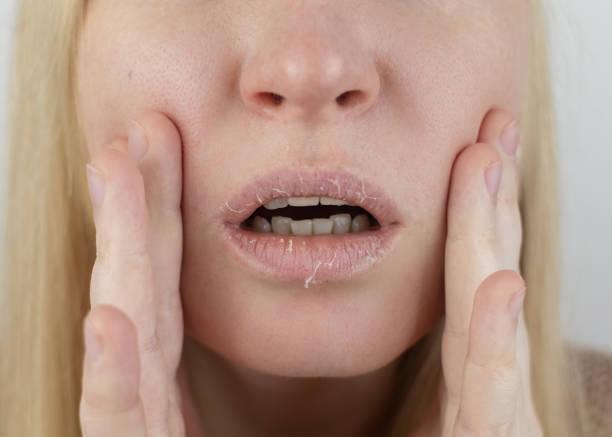Dry-Skin: (240, 247, 361, 380), (284, 34, 387, 138), (161, 59, 272, 128), (101, 17, 138, 153), (411, 24, 456, 114)
